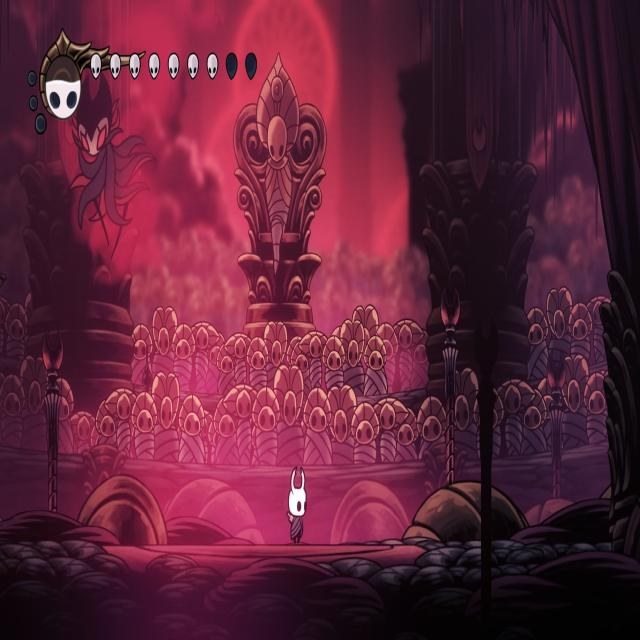Dive Dash: (70, 68, 156, 263)
Player: (284, 460, 309, 546)
